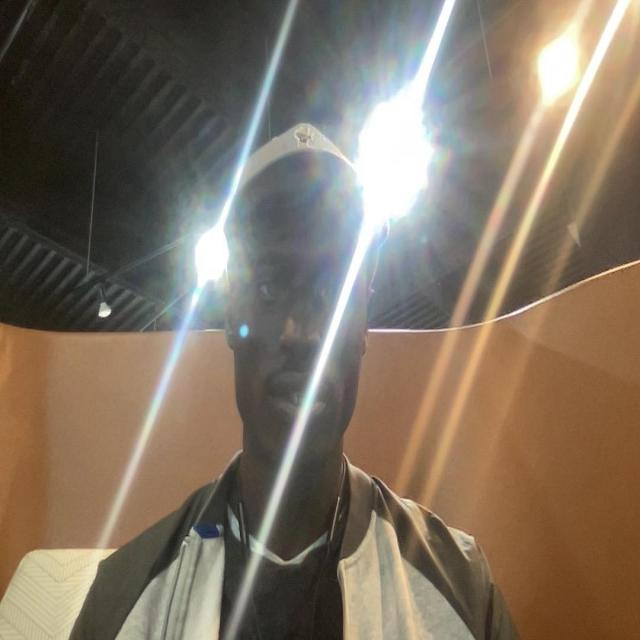face: (225, 173, 379, 470)
